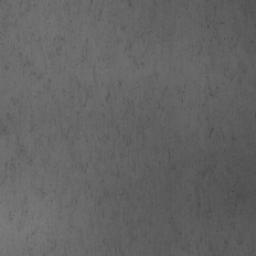Silk spot: (0, 0, 256, 256), (88, 0, 172, 69), (184, 0, 256, 62), (8, 197, 70, 256), (36, 184, 77, 219), (71, 151, 101, 173), (176, 84, 186, 110)
